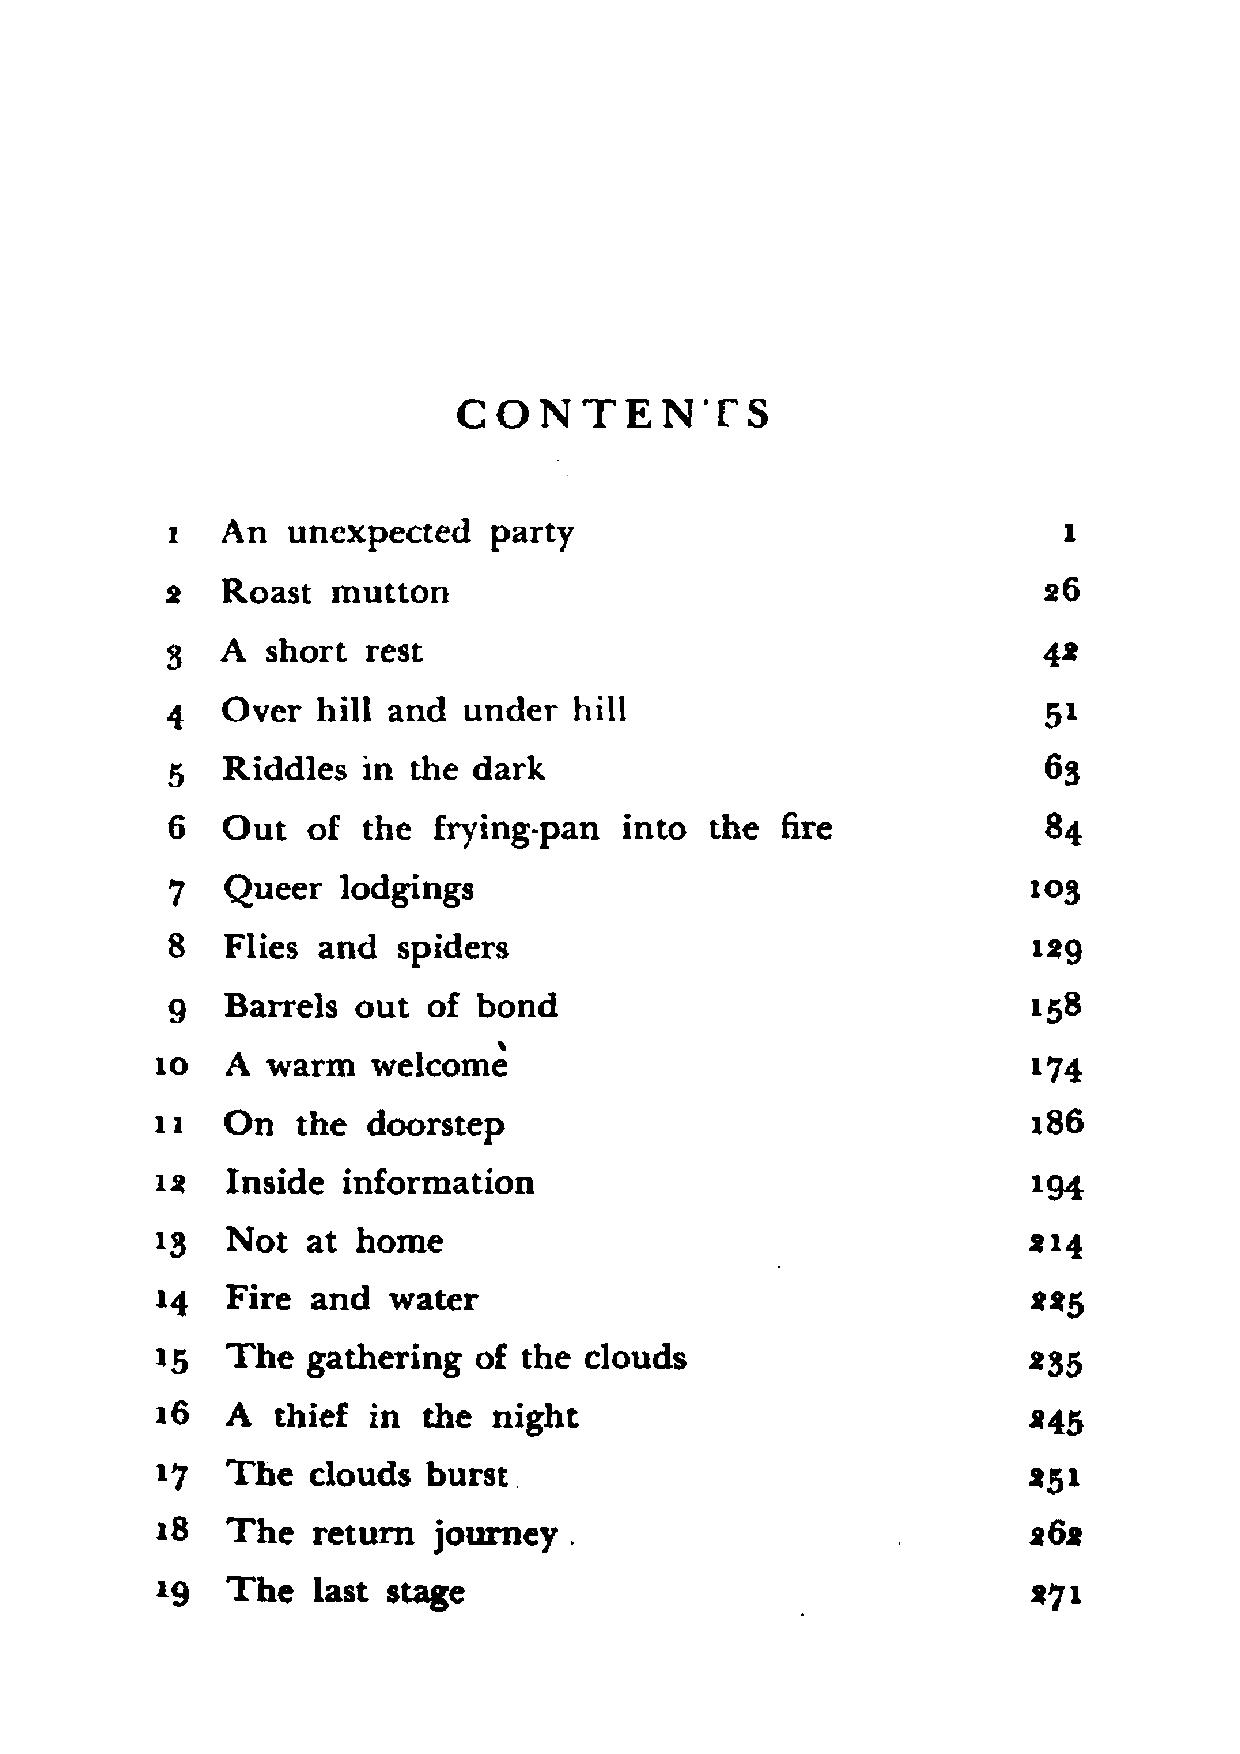TOC_chapter: (166, 807, 840, 845), (153, 1341, 690, 1382), (154, 1394, 586, 1441), (162, 986, 570, 1031), (166, 691, 628, 730), (154, 1512, 566, 1555), (162, 513, 586, 552), (161, 752, 550, 792), (157, 1283, 482, 1323), (153, 1453, 513, 1490), (166, 927, 513, 964), (152, 1110, 519, 1143), (166, 871, 480, 909), (153, 1169, 541, 1198), (156, 1576, 470, 1612), (152, 1051, 517, 1082), (157, 633, 423, 672), (162, 577, 454, 608), (152, 1227, 446, 1256)
TOC_pagenumber: (1025, 1398, 1090, 1444), (1025, 1168, 1088, 1209), (1027, 1341, 1090, 1381), (1025, 1047, 1084, 1088), (1027, 1515, 1087, 1554), (1027, 1457, 1083, 1499), (1025, 1286, 1088, 1322), (1024, 990, 1087, 1027), (1023, 1227, 1086, 1261), (1025, 874, 1082, 913), (1027, 1103, 1090, 1135), (1041, 807, 1086, 852), (1029, 1577, 1084, 1613), (1040, 750, 1088, 790), (1031, 934, 1083, 965), (1040, 637, 1078, 674), (1040, 573, 1083, 604), (1045, 699, 1082, 734), (1062, 515, 1080, 542)
chapter: (454, 392, 769, 433)
